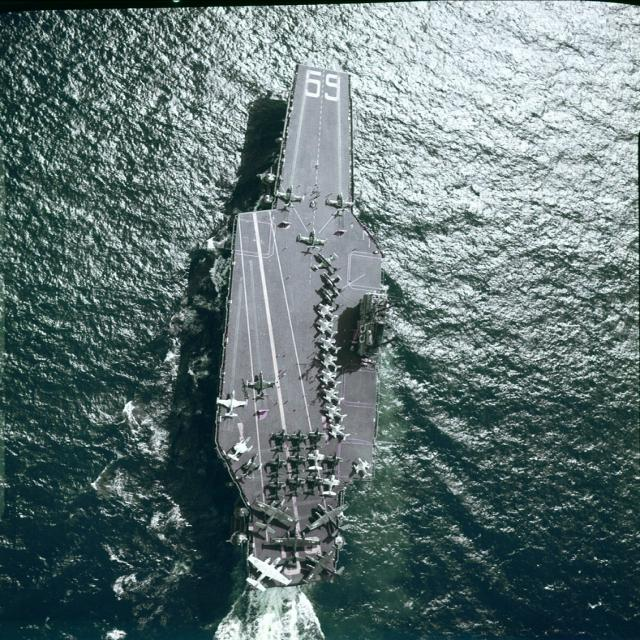Boat: (154, 89, 402, 595)
